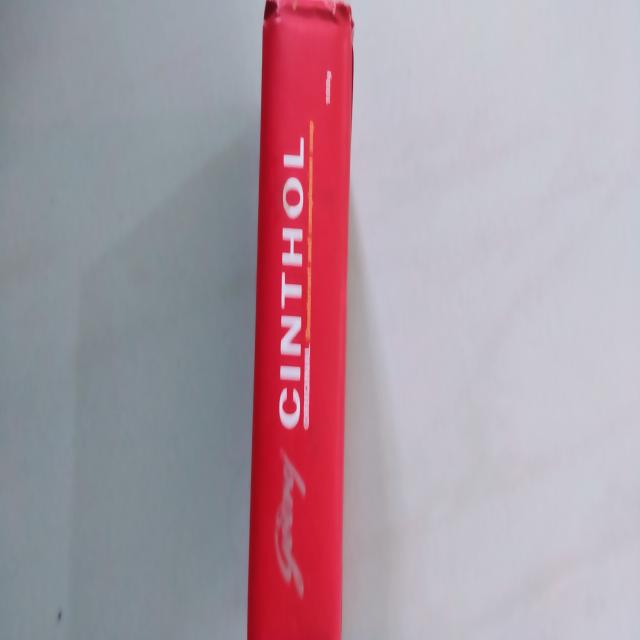soap: (245, 0, 355, 640)
